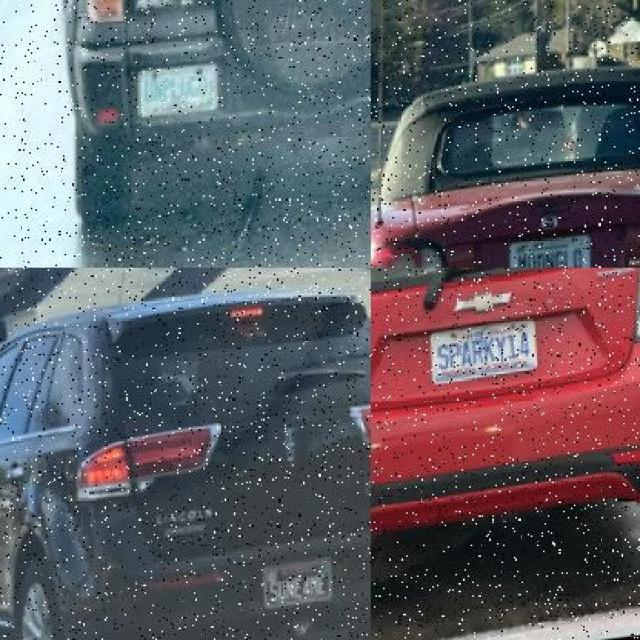LicensePlate: (432, 322, 541, 387), (140, 65, 220, 120), (265, 560, 337, 615), (512, 238, 593, 267)
